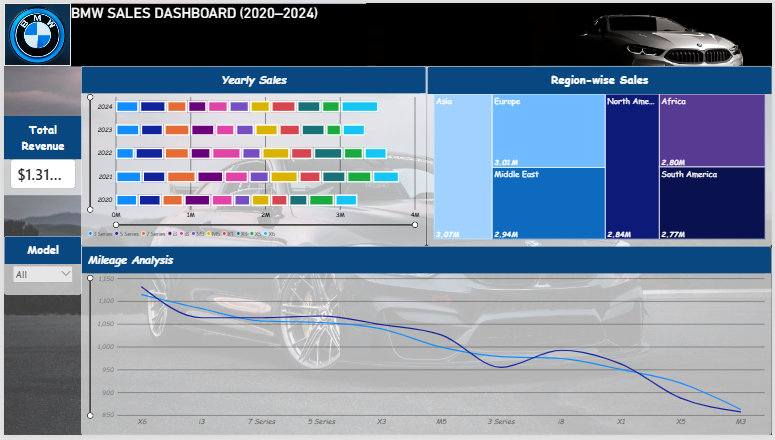

Layout of this report page (visuals, bound fields, positions):
{"tool":"powerbi","page":{"name":"Dashboard1","canvas":[1920,1080],"ordinal":13},"visuals":[{"type":"image","box":[905,0,1015.2,157.7],"z":0},{"type":"image","box":[0,0,166.3,157.7],"z":1000},{"type":"textbox","title":"           BMW SALES DASHBOARD (2020–2024)","box":[166.3,2.2,738.7,155.5],"z":2000},{"type":"treemap","title":"Region-wise Sales","fields":{"Details":["Order details.Region"],"Values":["Sum(Sales Details.Sales_Volume)"]},"box":[1058.4,157.7,862.5,450],"z":4000},{"type":"cardVisual","title":"Total Revenue","fields":{"Data":["Sum(Order details.Revenue)"]},"box":[0,283,195,197.5],"z":5000},{"type":"lineChart","title":"Mileage Analysis","fields":{"Category":["Order details.Model"],"Y":["Sum(Order details.Engine Size)"],"Y2":["CountNonNull(Order details.Fuel Type)"]},"box":[192.2,607,1725.8,473],"z":6000},{"type":"slicer","title":"Model","fields":{"Values":["Order details.Model"]},"box":[0,583.2,194.4,146.9],"z":7000},{"type":"barChart","title":"Yearly Sales","fields":{"Category":["Order details.Year"],"Series":["Order details.Model"],"Y":["Sum(Order details.Sales_Volume)"]},"box":[192.5,157.5,862.5,450],"z":7001}]}

Visuals, with their boxes in screenshot pixels (x1, y1, x2, y2), scaled from the page's 1920x1080 canvas onto the 775x440 screenshot:
image: 365,0,774,64
image: 0,0,67,64
"           BMW SALES DASHBOARD (2020–2024)" textbox: 67,1,365,64
"Region-wise Sales" treemap: 427,64,774,248
"Total Revenue" cardVisual: 0,115,79,196
"Mileage Analysis" lineChart: 78,247,774,439
"Model" slicer: 0,238,78,297
"Yearly Sales" barChart: 78,64,426,248
